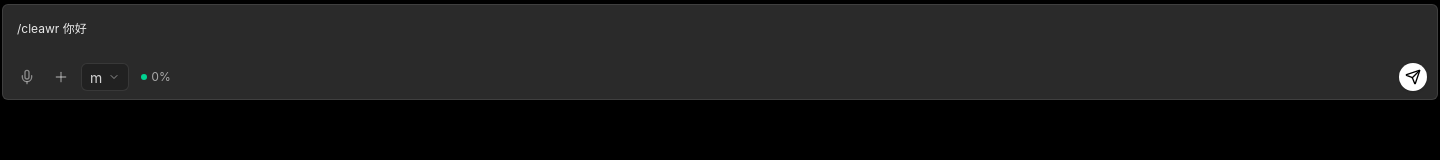
AgentInput 斜杠命令校验 › 未知命令点击发送按钮：同样拦截
Expected: the field with class "cm-content" is shown, top-left (17, 21), bottom-right (87, 36)
Click the button named "Send" at (1413, 77), box top-left (1399, 63), bottom-right (1427, 91)
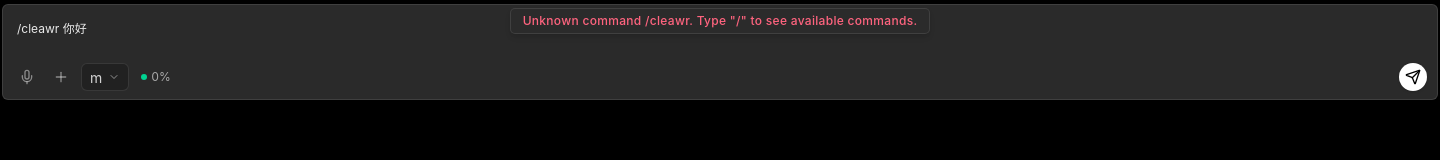
Expected: the text "Unknown command /cleawr. Type \"/\" to see available commands." is shown, top-left (510, 8), bottom-right (930, 34)
